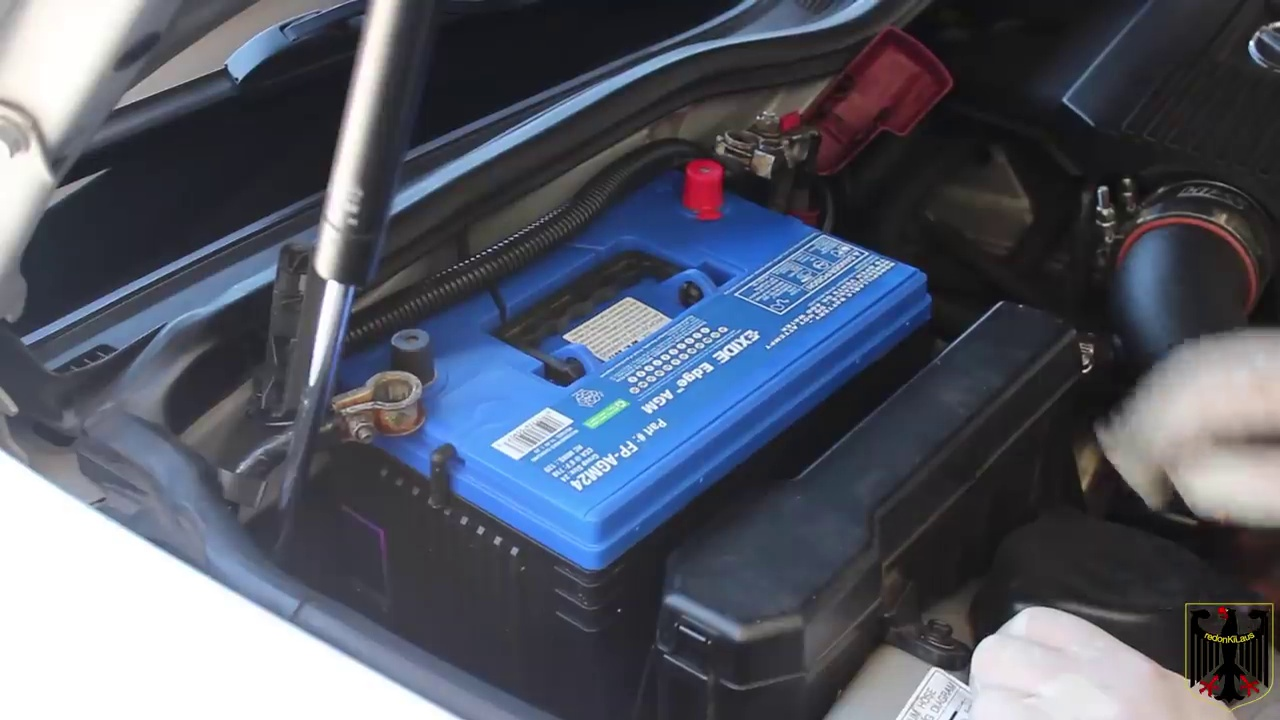battery: (304, 152, 937, 526)
pos_disconnected: (660, 56, 909, 219)
